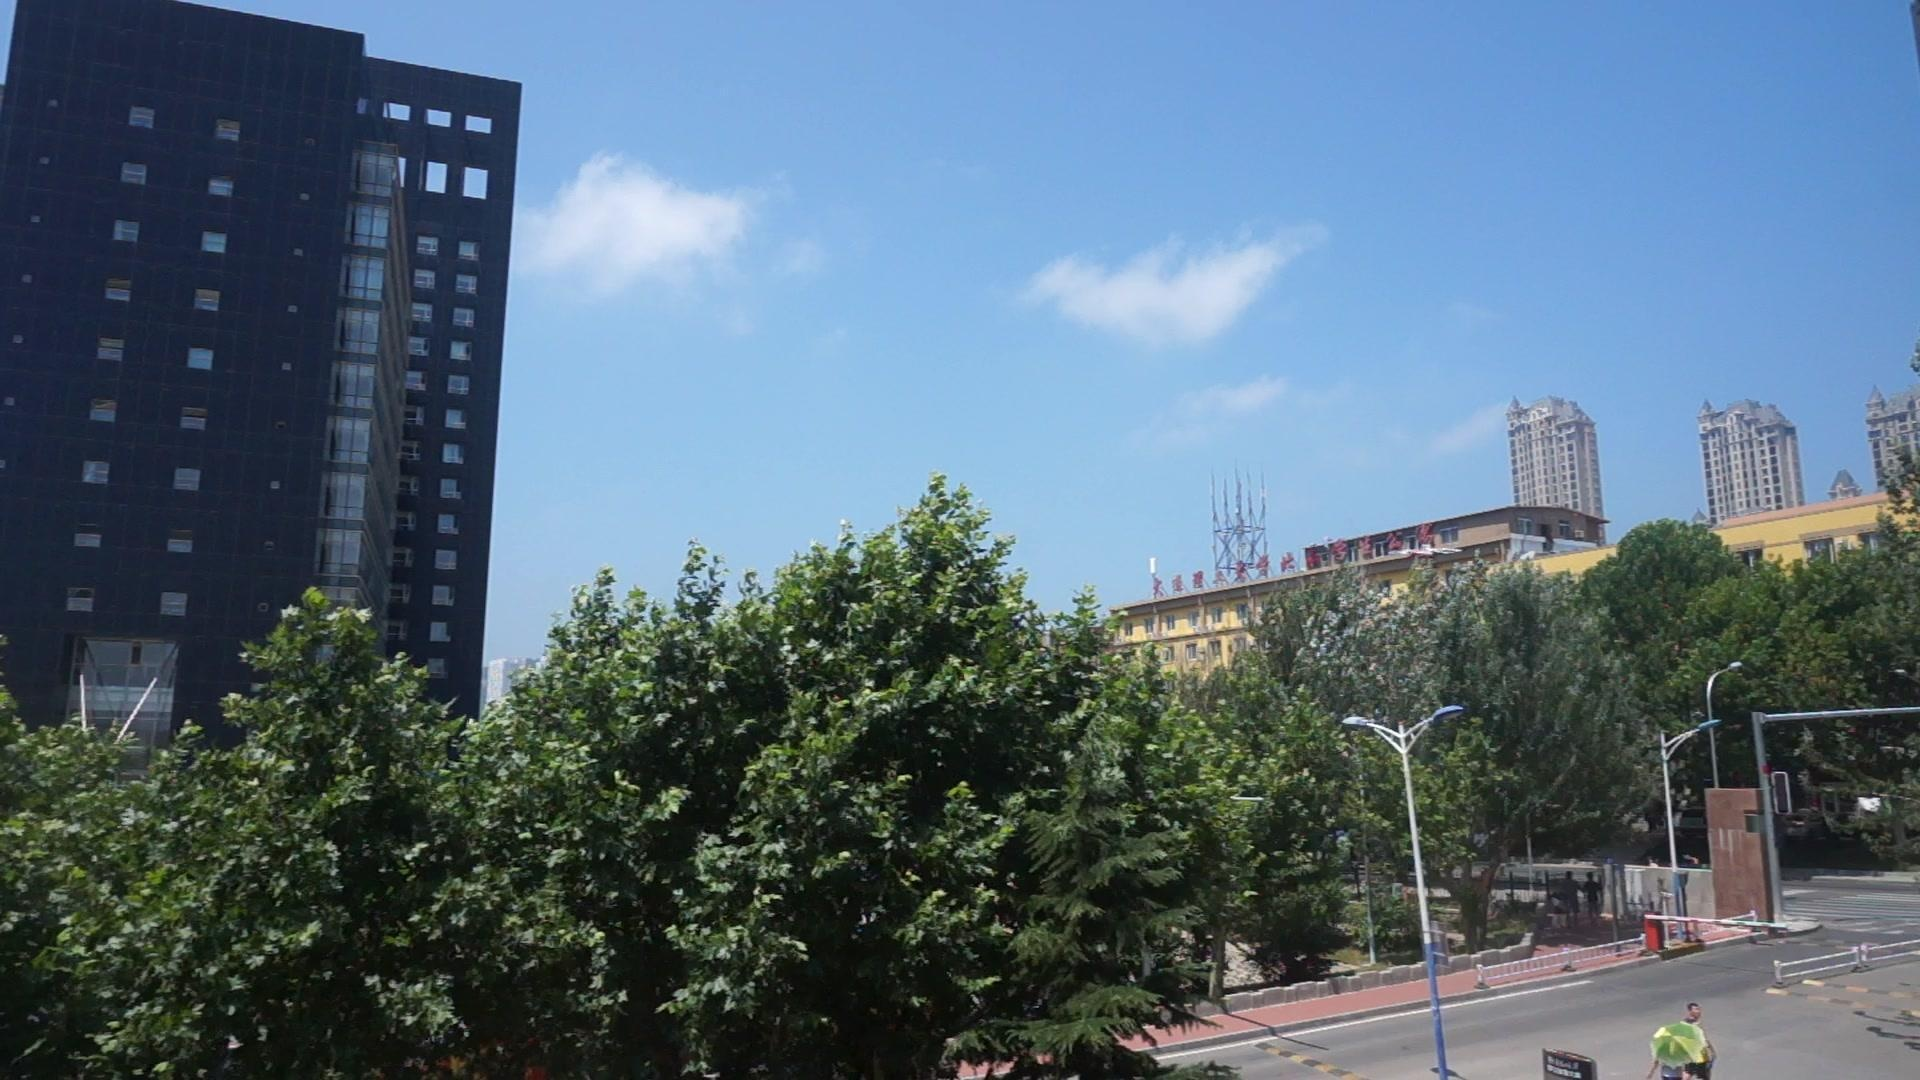UAV: (1396, 545, 1465, 568)
